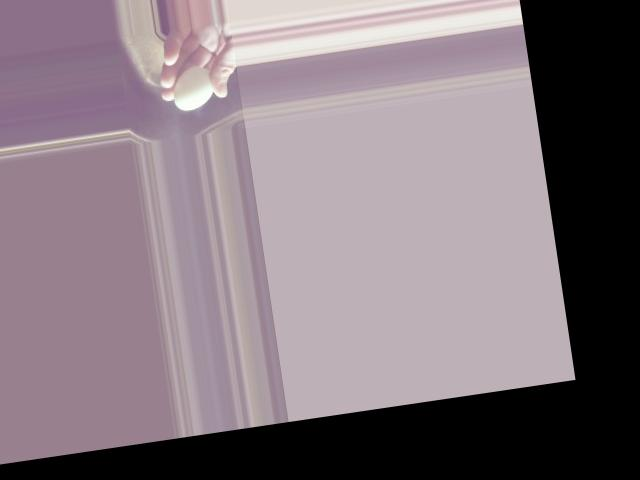egg: (170, 64, 216, 111)
